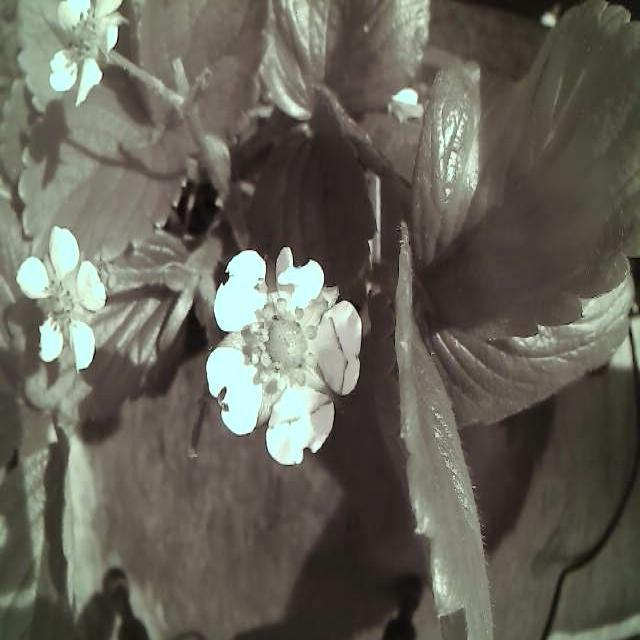flower: (201, 238, 370, 468), (14, 216, 114, 380), (42, 0, 140, 105)
